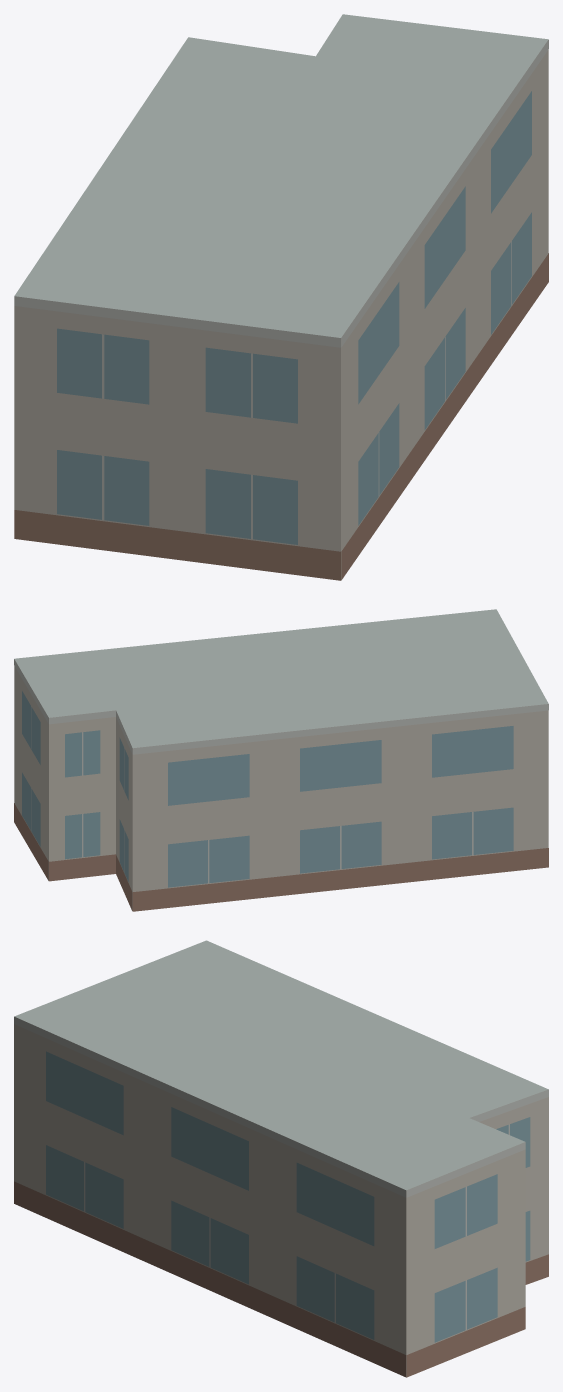
File: survey-upis-32721889.glb
3 views of the same model, one above another, from view 1: azimuth 30°, elevation 25°; view 2: azimuth 150°, elevation 25°; view 3: azimuth 270°, elevation 25° (orthographic). The views are drawn at different scales.
Parts seen in each view (by area): view 1: survey-upis-32721889.tmp; view 2: survey-upis-32721889.tmp; view 3: survey-upis-32721889.tmp.
Boxes of the visible parts, x1,y1,x2,y2 form: survey-upis-32721889.tmp: [14, 14, 548, 580]; survey-upis-32721889.tmp: [14, 609, 548, 911]; survey-upis-32721889.tmp: [14, 940, 548, 1377].
Bounding box in the file's own units: 17.48 × 6.1 × 15.8.
